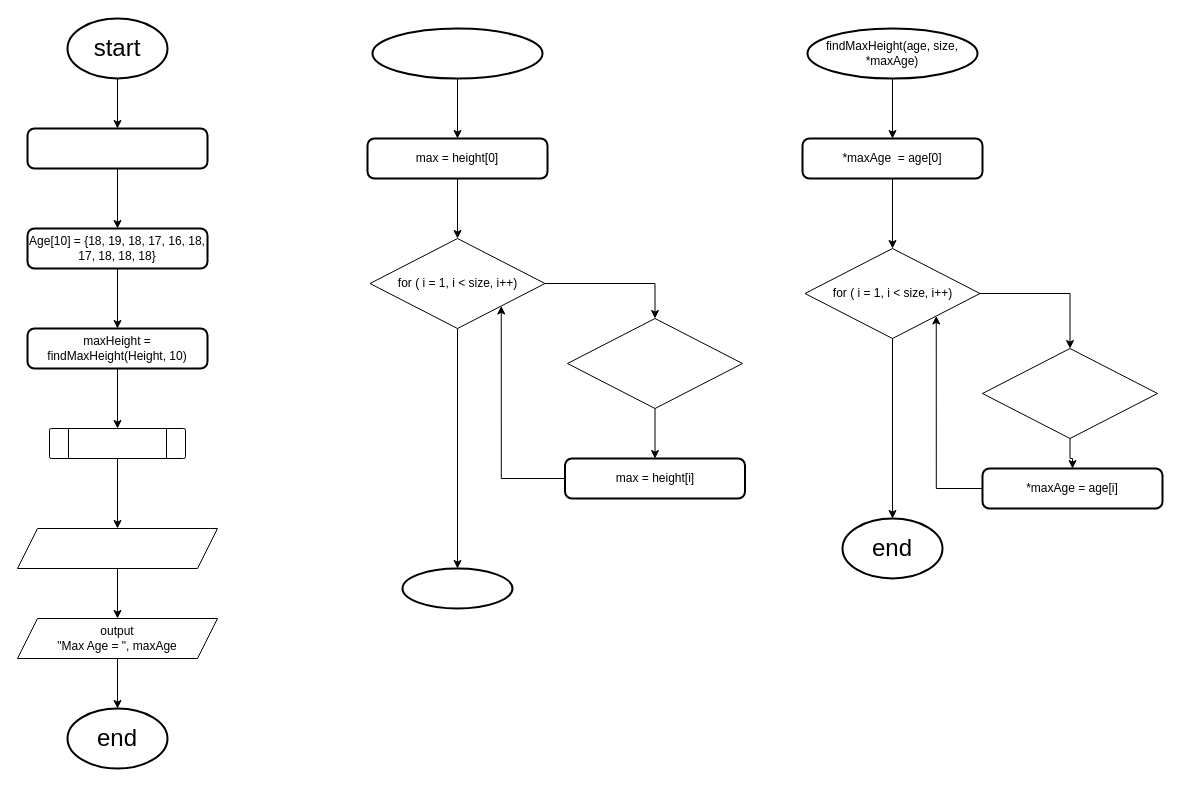
This 1181x786 diagram has some shape labels left out. Each missing label, with the centre of its shape:
findMaxAge(Age, 10, maxAge): (117,443)
findMaxHeight(height, size): (457,53)
Height[10] = {159, 168, 191, 188, 154, 152, 167, 165, 178, 177}: (117,148)
if ( age[i] > *maxAge): (1070,393)
if (height[i] > max): (654,363)
output "Max Height = ", maxHeight: (117,548)
return max: (457,588)
